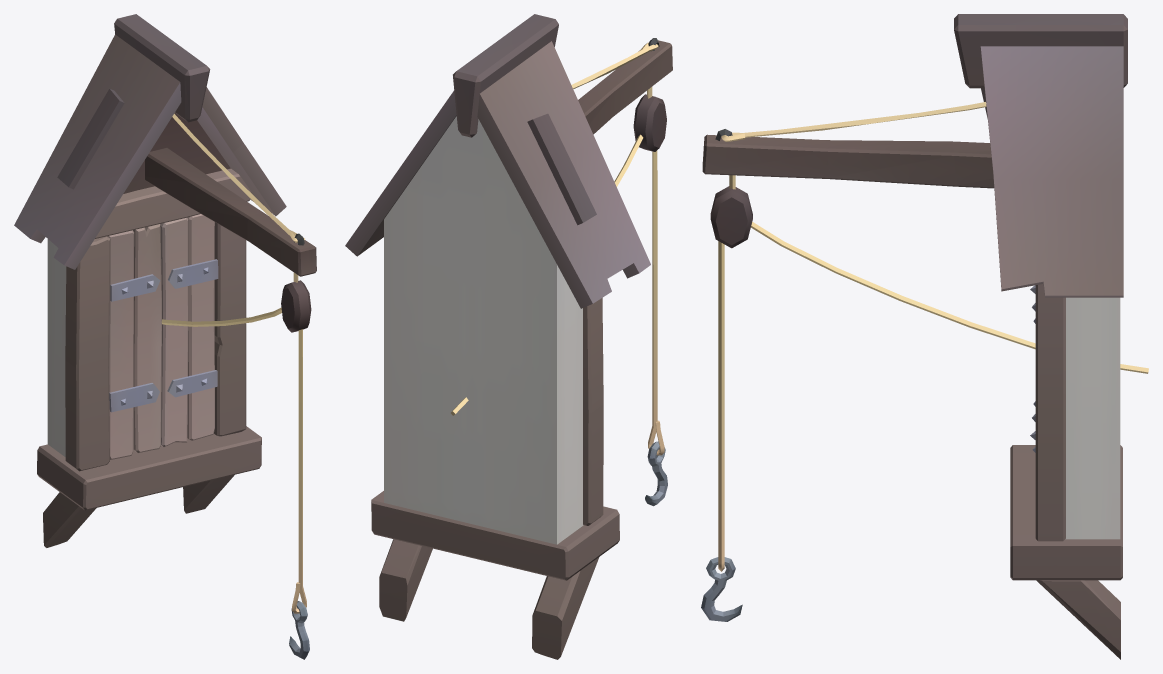
The model's file is wood-crane.lod0.glb.
The picture shows the model from 3 angles, left to right: view 1: azimuth 30°, elevation 25°; view 2: azimuth 150°, elevation 25°; view 3: azimuth 270°, elevation 25°; orthographic projection. The views are drawn at different scales.
Parts seen in each view (by area): view 1: Line026_med_diffuse_0; view 2: Line026_med_diffuse_0; view 3: Line026_med_diffuse_0.
Part boxes in pixels (left/top/right/bottom): Line026_med_diffuse_0: left=14, top=14, right=316, bottom=659; Line026_med_diffuse_0: left=345, top=14, right=672, bottom=659; Line026_med_diffuse_0: left=701, top=14, right=1148, bottom=659.
Bounding box in the file's own units: 3.2 × 7 × 4.72.
Materials: 1 (1 with a texture image).
